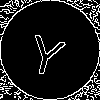Y: (25, 25, 70, 79)
